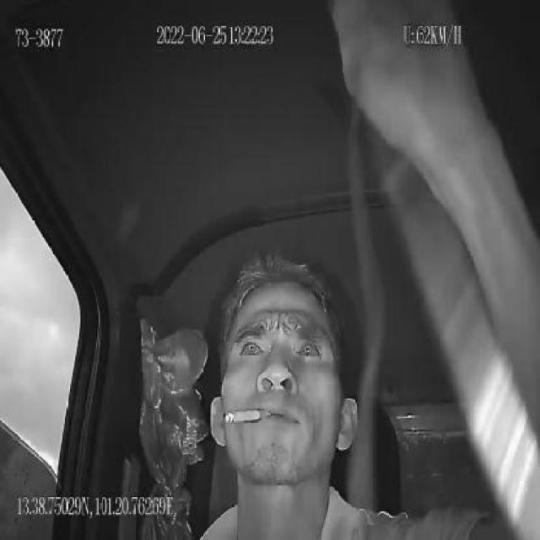smoking: (222, 408, 270, 424)
